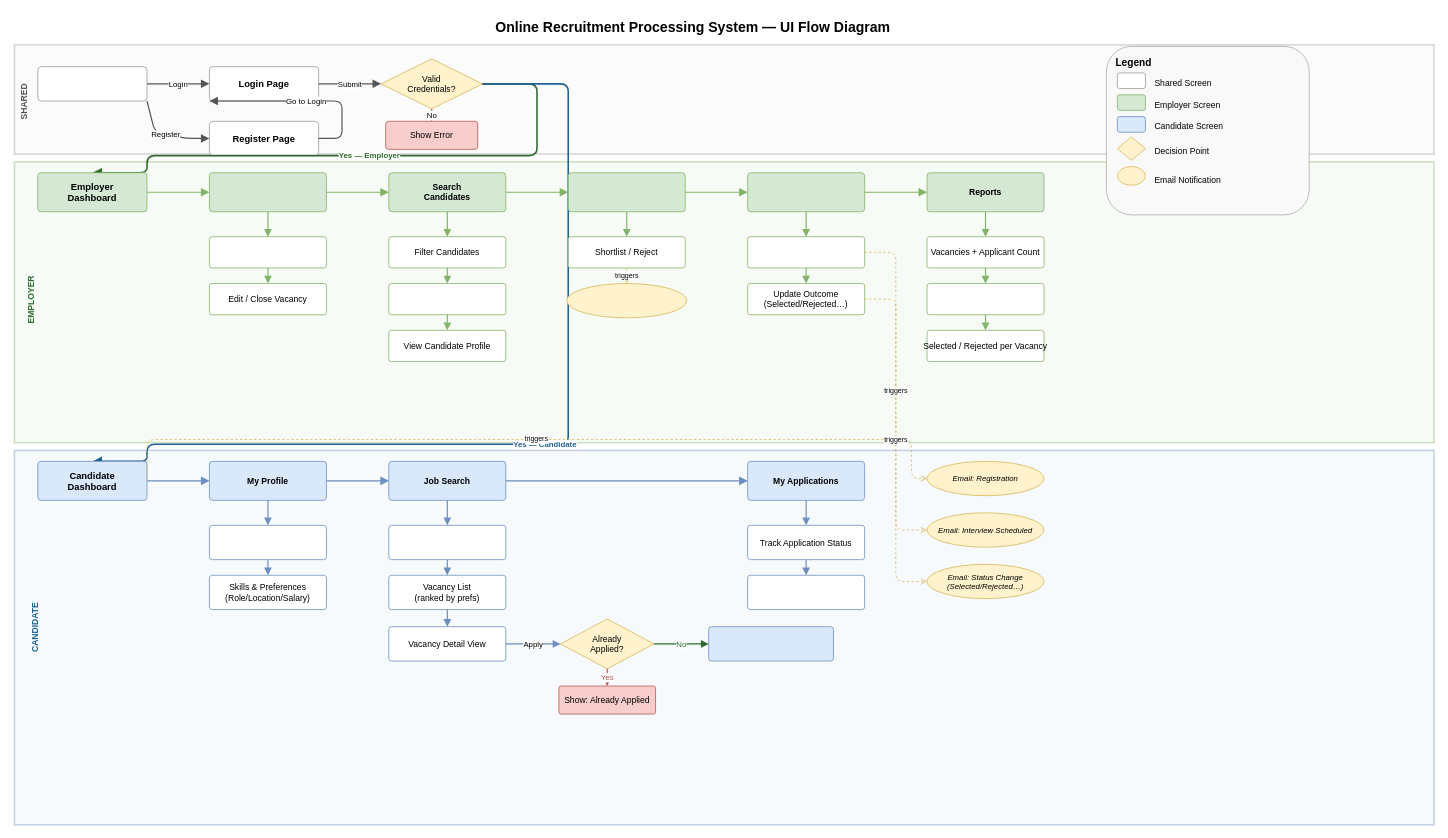
Image size: 1448x838. Some labels were removed from this diagram. Each missing label, with the centre of its shape:
Apply (1-click) Profile auto-submitted: (x=770, y=643)
Email: New Application: (x=626, y=300)
Filter Vacancies (Location/Salary/Type): (x=447, y=542)
Interview Form (Date/Mode/Venue): (x=806, y=252)
Interview History: (x=806, y=592)
Interview Schedule by Date: (x=985, y=299)
Landing Page: (x=92, y=83)
Personal / Academic / Experience: (x=267, y=542)
Post New Vacancy: (x=267, y=252)
Ranked Results: (x=447, y=299)
Schedule Interview: (x=806, y=192)
Vacancy Management: (x=267, y=192)
View Applications: (x=626, y=192)
